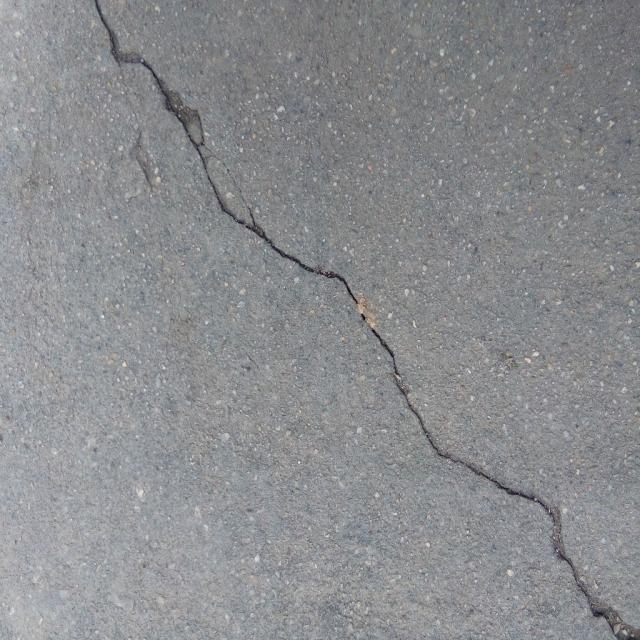cracks: (82, 0, 640, 638)
